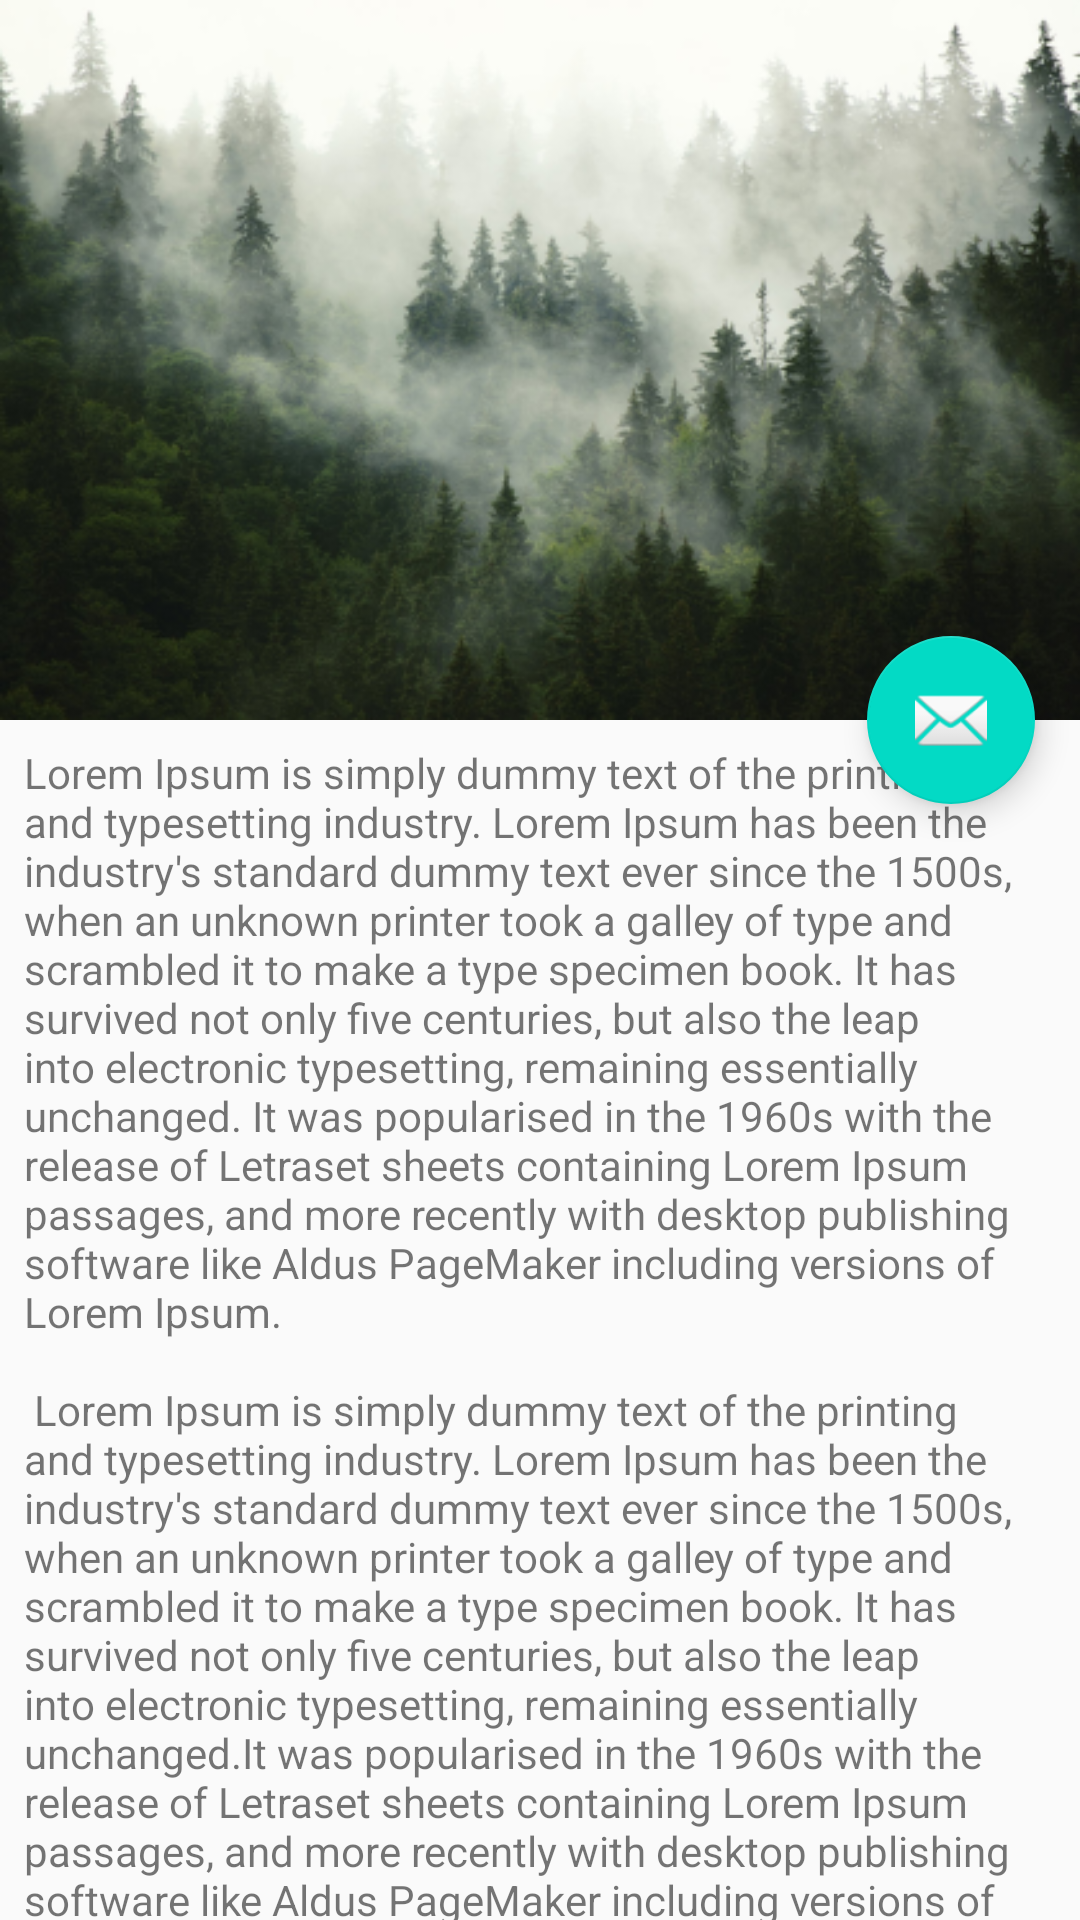

Point at icon controls on the screen. Image size 1080×1920, points as (x,y).
email: (951,720)
